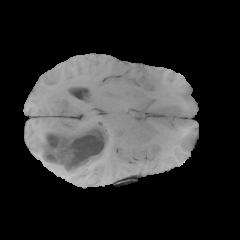glioma: (41, 124, 109, 176)
